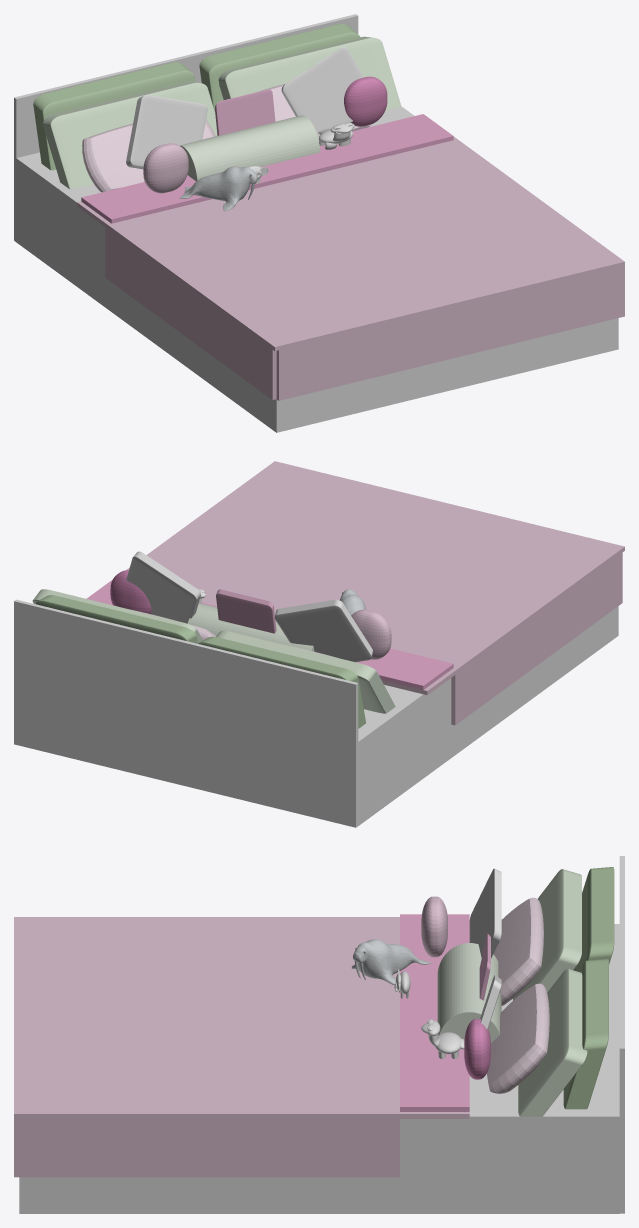
The model's file is Grand Robo-Waasa.glb.
3 views of the same model, one above another, from view 1: azimuth 30°, elevation 25°; view 2: azimuth 150°, elevation 25°; view 3: azimuth 270°, elevation 25° (orthographic). The views are drawn at different scales.
Visible parts, largest first — view 1: Mesh_Mesh_head_geo.001_lambert2SG.001; view 2: Mesh_Mesh_head_geo.001_lambert2SG.001; view 3: Mesh_Mesh_head_geo.001_lambert2SG.001.
Part boxes in pixels (x1,y1,x2,y2): Mesh_Mesh_head_geo.001_lambert2SG.001: [14, 14, 624, 432]; Mesh_Mesh_head_geo.001_lambert2SG.001: [14, 461, 624, 827]; Mesh_Mesh_head_geo.001_lambert2SG.001: [14, 856, 624, 1213].
Size of the model in its own units: 0.087 by 0.04 by 0.114.
